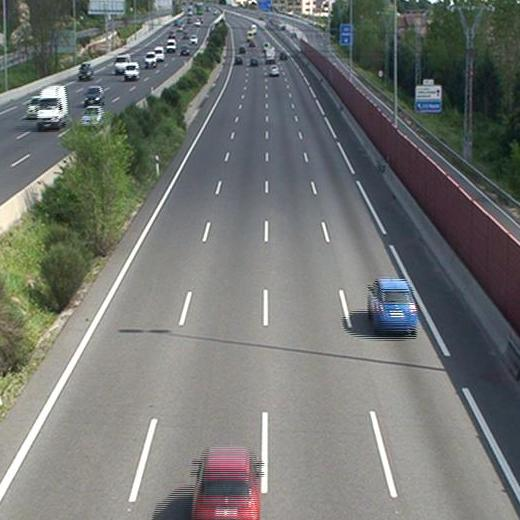car: (189, 448, 263, 520), (365, 279, 418, 332), (268, 63, 280, 77), (250, 57, 260, 68), (232, 55, 242, 65), (279, 50, 289, 60)
van: (264, 46, 276, 61)
